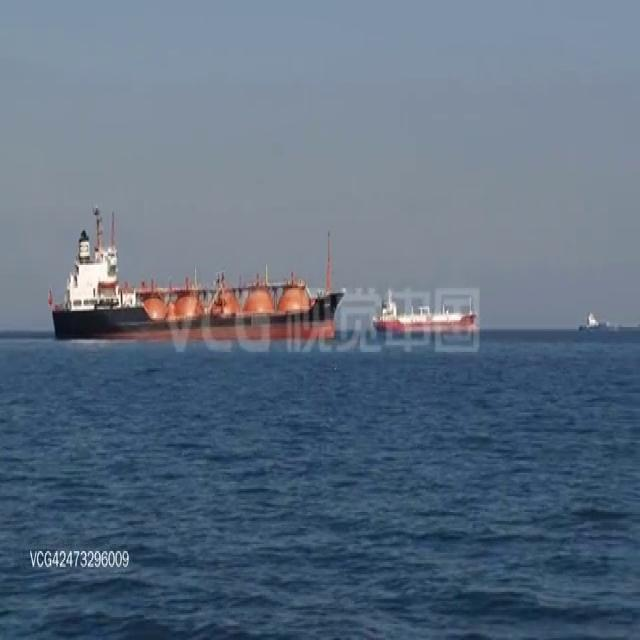cargoship: (45, 204, 340, 338), (372, 288, 479, 333), (578, 307, 616, 332)
